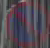No waiting: (3, 2, 49, 45)
